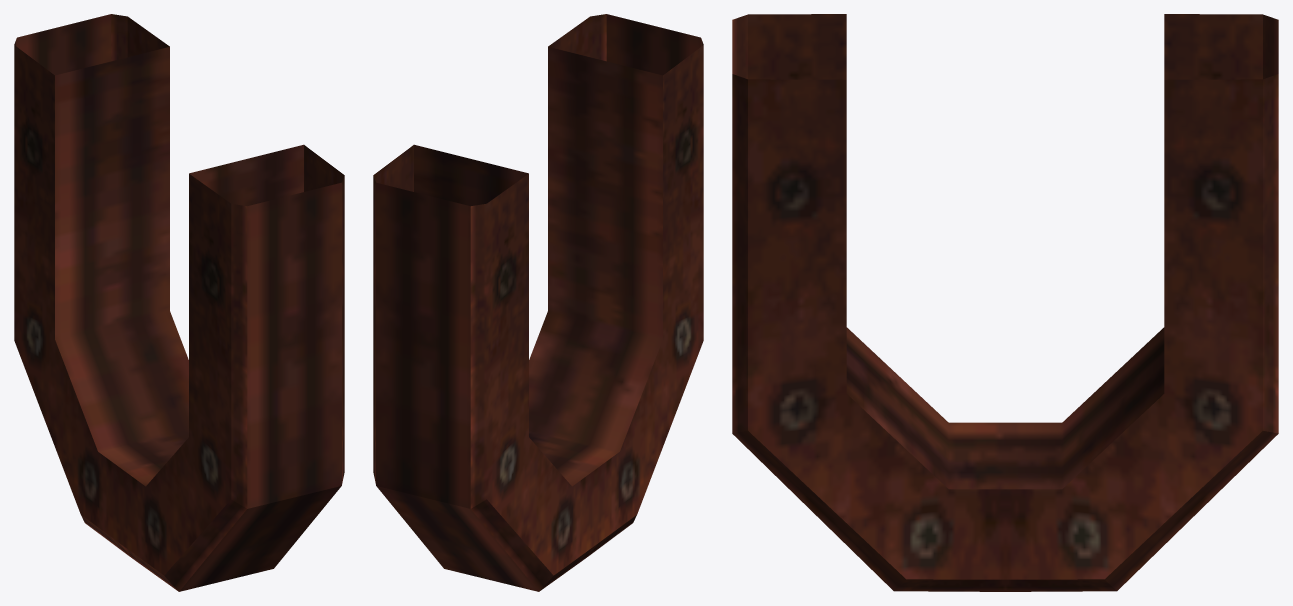
Rendered from cables_hanging_holder.dae.
The picture shows the model from 3 angles, left to right: view 1: azimuth 30°, elevation 25°; view 2: azimuth 150°, elevation 25°; view 3: azimuth 270°, elevation 25°; orthographic projection. The views are drawn at different scales.
Visible parts, largest first — view 1: polySurface858; view 2: polySurface858; view 3: polySurface858.
Boxes of the visible parts, bbox=[...] form: polySurface858: bbox=[14, 14, 344, 591]; polySurface858: bbox=[373, 14, 703, 591]; polySurface858: bbox=[732, 14, 1278, 591].
Size of the model in its own units: 0.1112 by 0.4029 by 0.3853.
